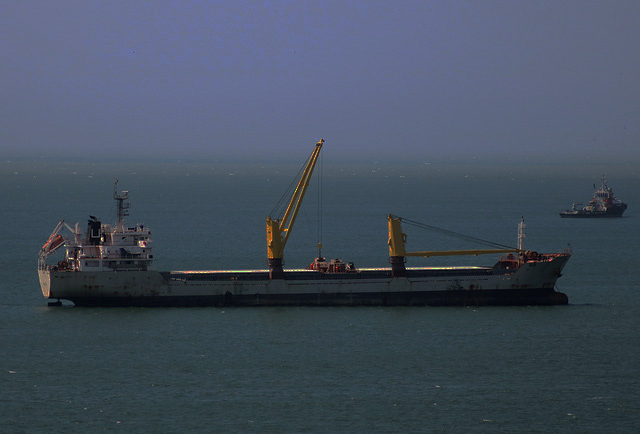bulk carrier: (35, 185, 569, 307)
tug_boat: (566, 173, 628, 218)
